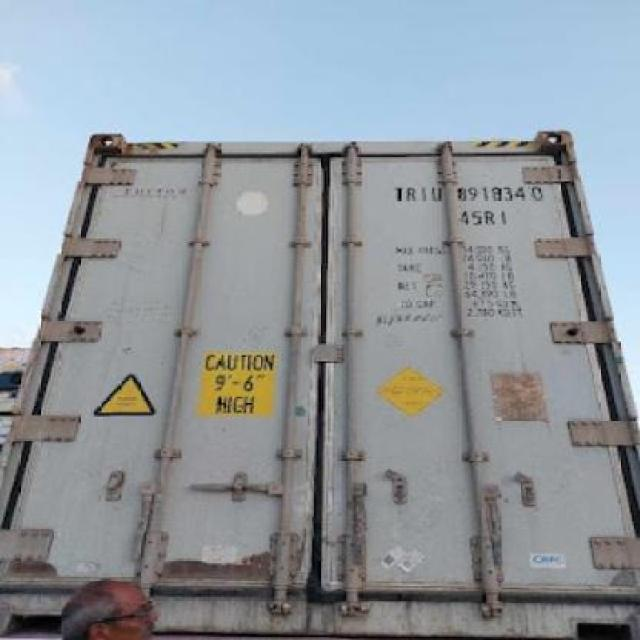ISO: (458, 207, 509, 227)
container_number: (398, 183, 548, 203)
